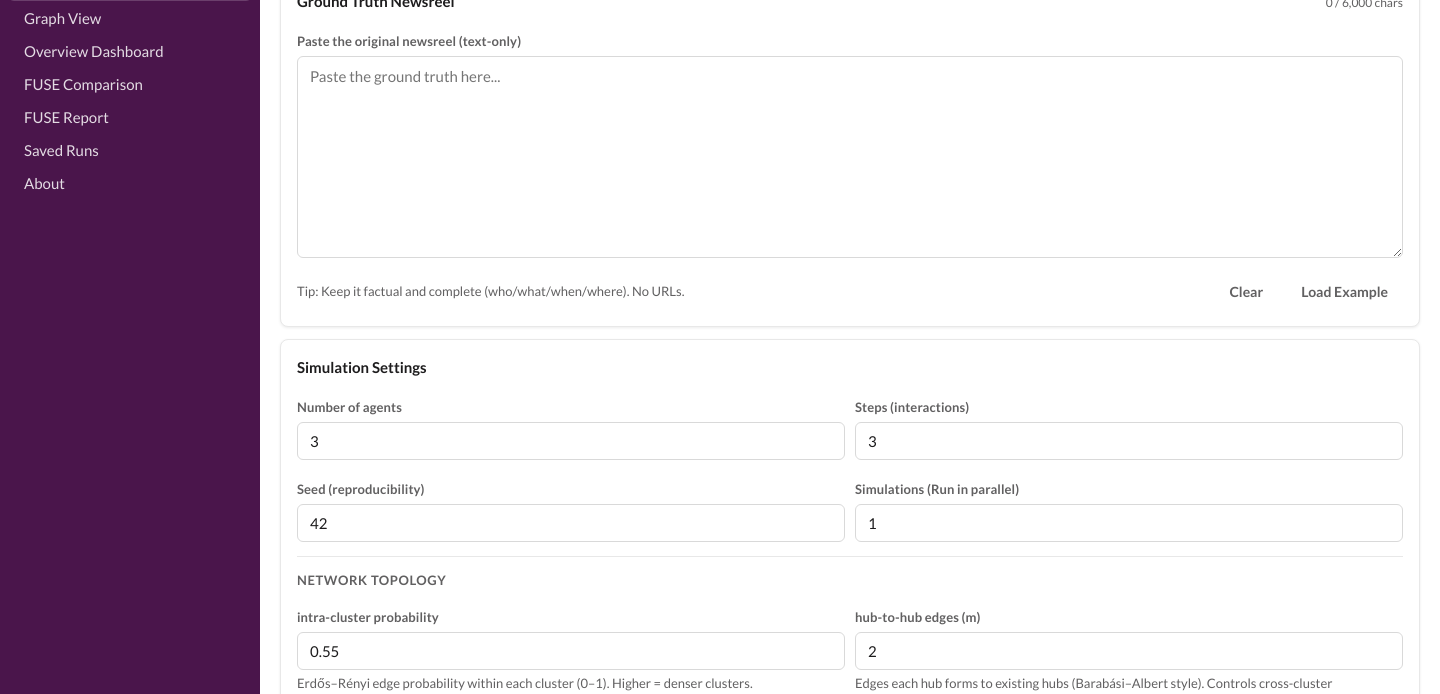
SoFake Frontend Unit Tests › should disable Start Simulation button if ground truth is empty
In the text box with placeholder "Paste the ground truth here...": point(850, 157) x1=297 y1=56 x2=1403 y2=258, type "Valid Ground Truth"
(page scrolled)
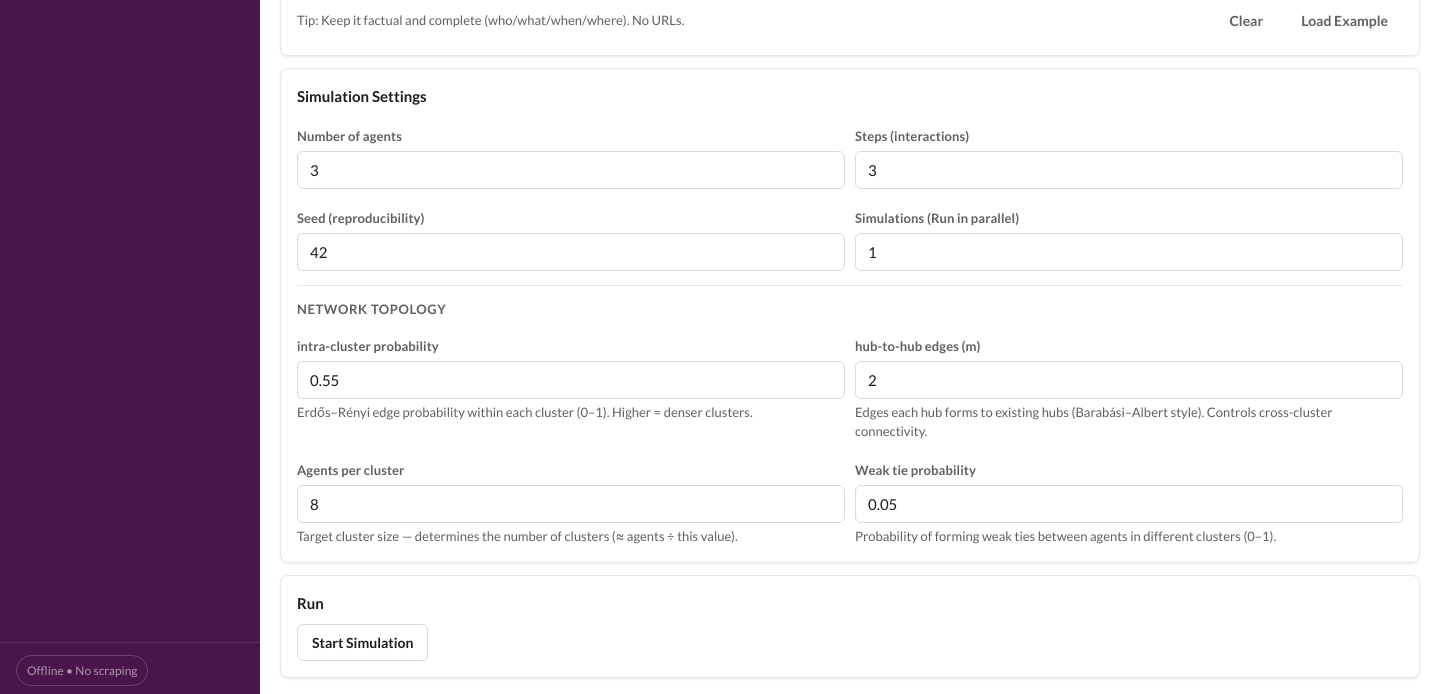
Result: the button "Start Simulation" is enabled at x1=297 y1=624 x2=428 y2=661
